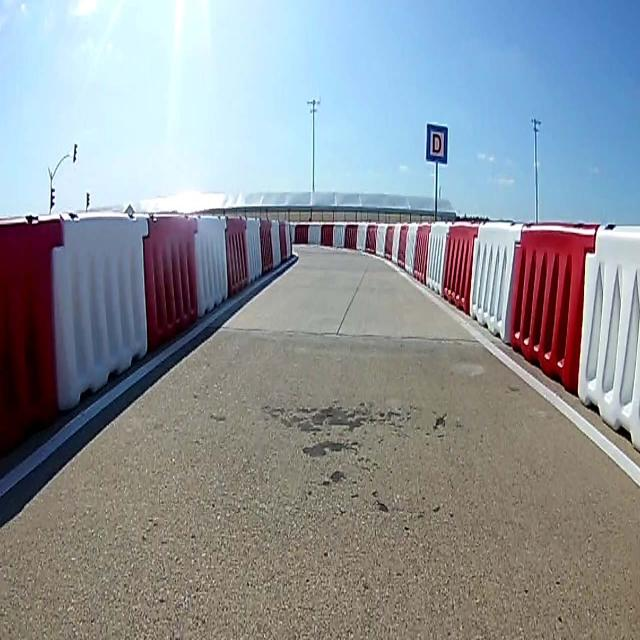durak: (425, 123, 448, 165)
